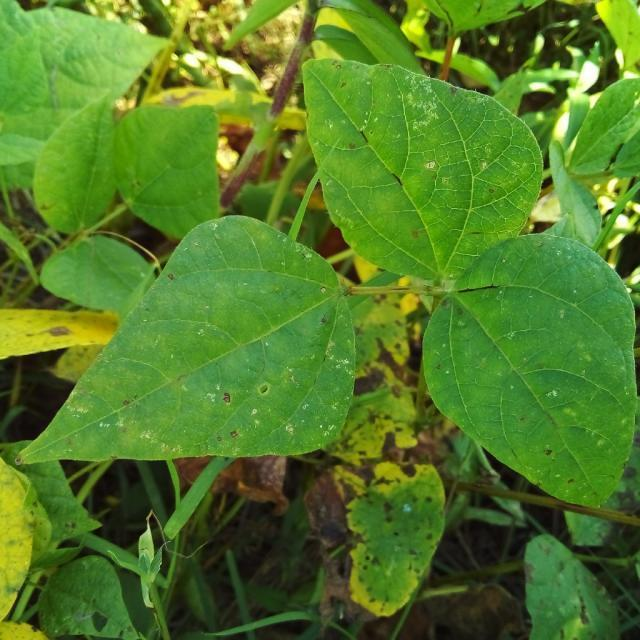embun tepung: (78, 384, 257, 458), (502, 237, 631, 311), (259, 348, 353, 441), (355, 59, 458, 137), (500, 368, 593, 442)
hawar: (164, 263, 281, 341)
